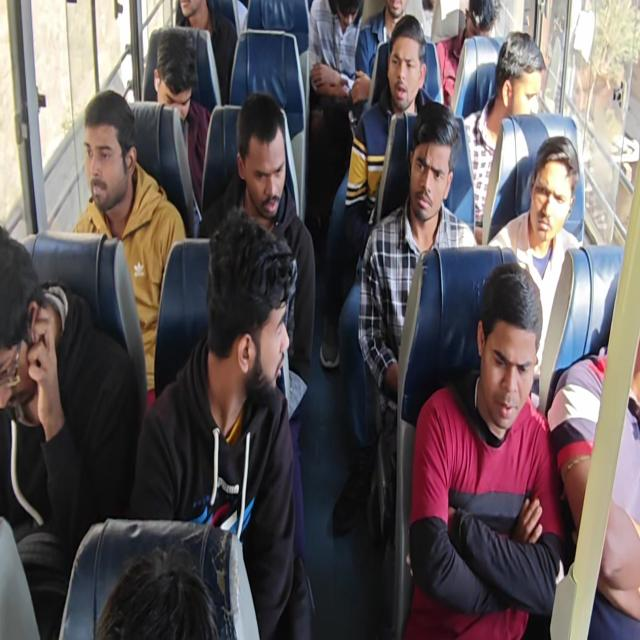person: (202, 208, 292, 411), (96, 552, 235, 640), (472, 260, 541, 428), (0, 238, 57, 417), (232, 96, 290, 201), (402, 118, 456, 229), (79, 102, 130, 204), (492, 27, 542, 127), (608, 246, 640, 373), (527, 136, 565, 239), (153, 39, 195, 121), (453, 0, 507, 56), (387, 31, 422, 112), (168, 0, 214, 36), (332, 0, 362, 37), (376, 0, 410, 27)
